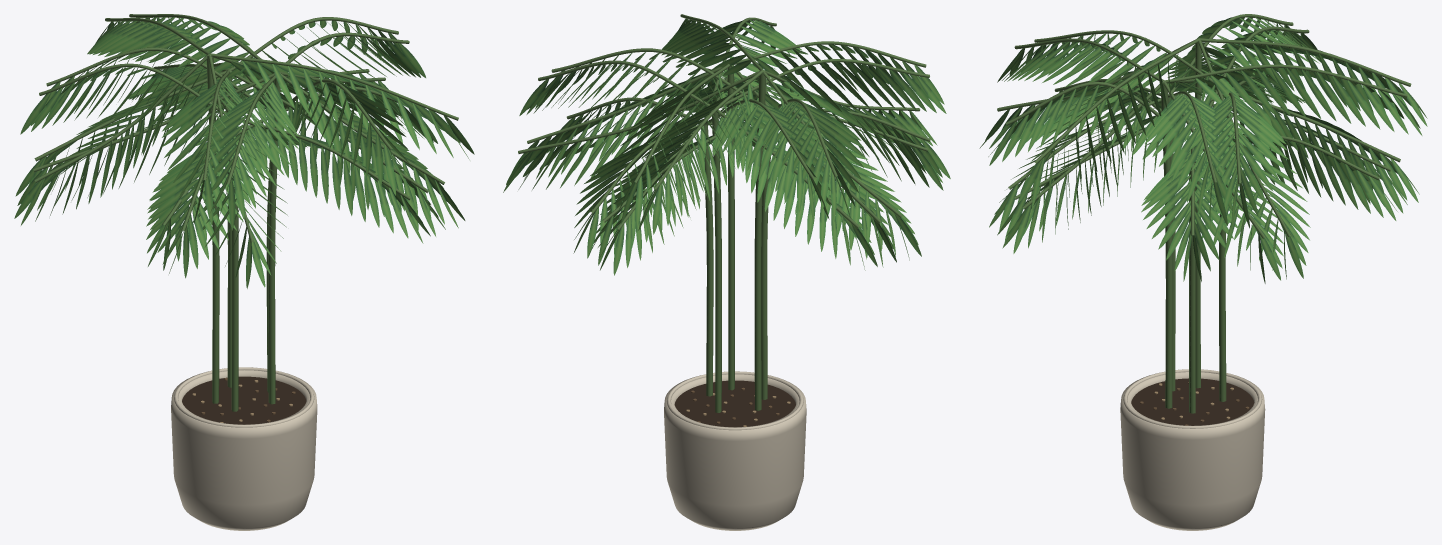
Rendered from officeKentiaPalm.glb.
3 views of the same model, side by side, from view 1: azimuth 30°, elevation 25°; view 2: azimuth 150°, elevation 25°; view 3: azimuth 270°, elevation 25° (orthographic). The views are drawn at different scales.
Size of the model in its own units: 1.52 by 1.67 by 1.49.
